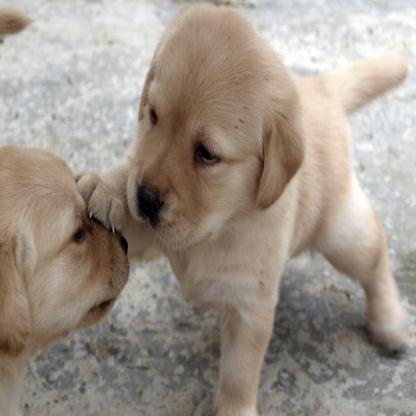dog: (74, 5, 415, 415), (0, 147, 130, 416)
